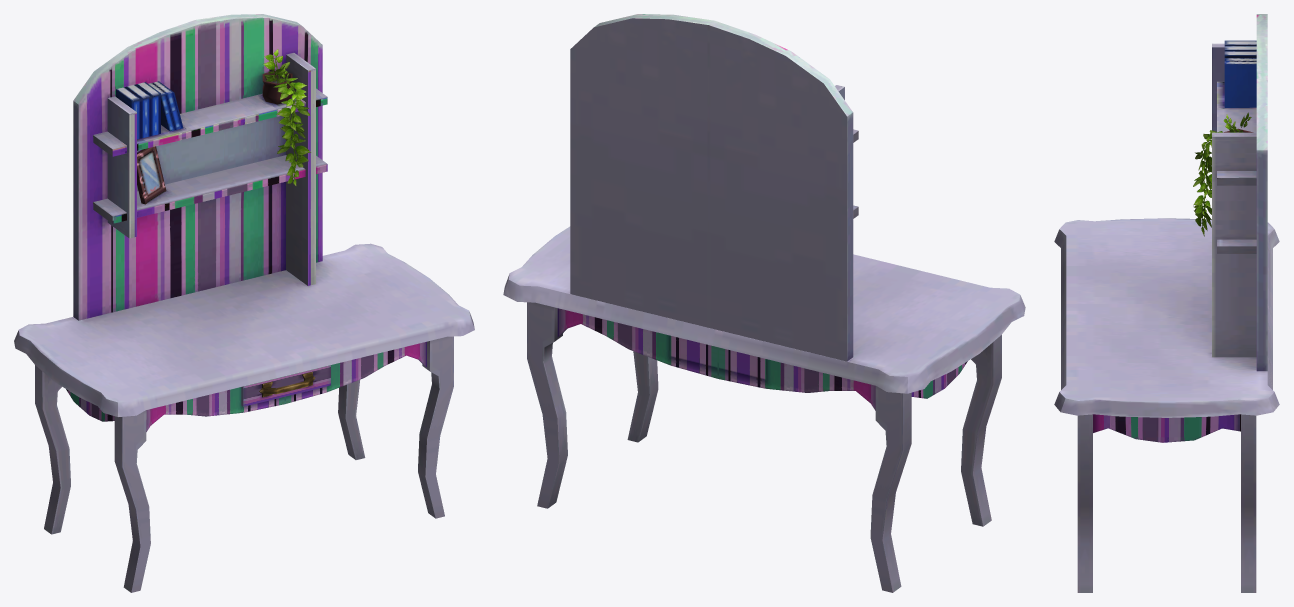
Rendered from furni_0200609_02.FBX.
The picture shows the model from 3 angles, left to right: view 1: azimuth 30°, elevation 25°; view 2: azimuth 150°, elevation 25°; view 3: azimuth 270°, elevation 25°; orthographic projection. The views are drawn at different scales.
Parts seen in each view (by area): view 1: furni_0200609_02; view 2: furni_0200609_02; view 3: furni_0200609_02.
Part boxes in pixels (x1,y1,x2,y2): furni_0200609_02: (14, 14, 474, 592); furni_0200609_02: (503, 14, 1025, 592); furni_0200609_02: (1054, 14, 1279, 592).
Size of the model in its own units: 159 by 187 by 80.07.
Materials: 1 (1 with a texture image).
